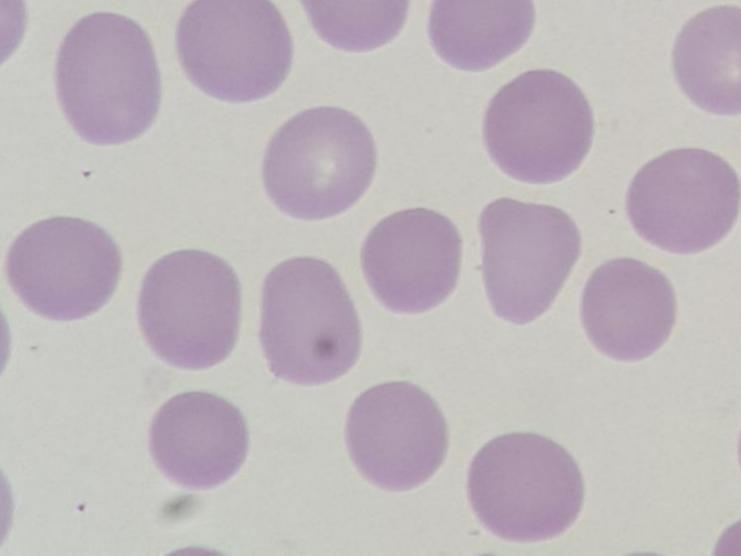Uninfected: (53, 13, 166, 142), (261, 102, 377, 220), (257, 258, 365, 383), (479, 195, 580, 328), (466, 432, 584, 544), (173, 0, 296, 107), (624, 148, 741, 257), (483, 70, 592, 185), (6, 218, 123, 325), (139, 249, 242, 369), (344, 380, 446, 495), (361, 203, 461, 315), (581, 259, 677, 361), (147, 390, 246, 486), (429, 2, 534, 77), (673, 8, 741, 114)
